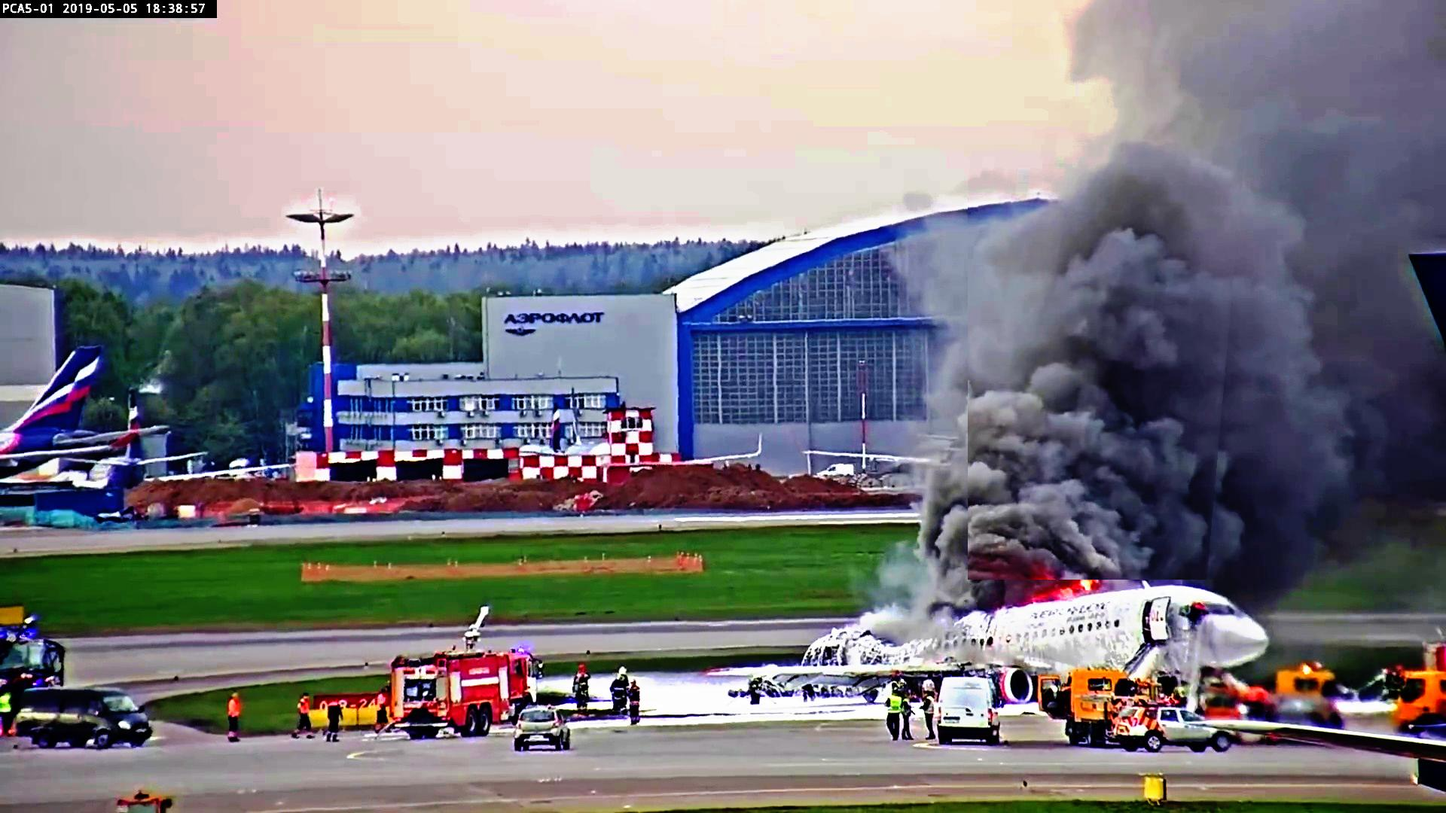smoke: (968, 123, 1249, 580)
